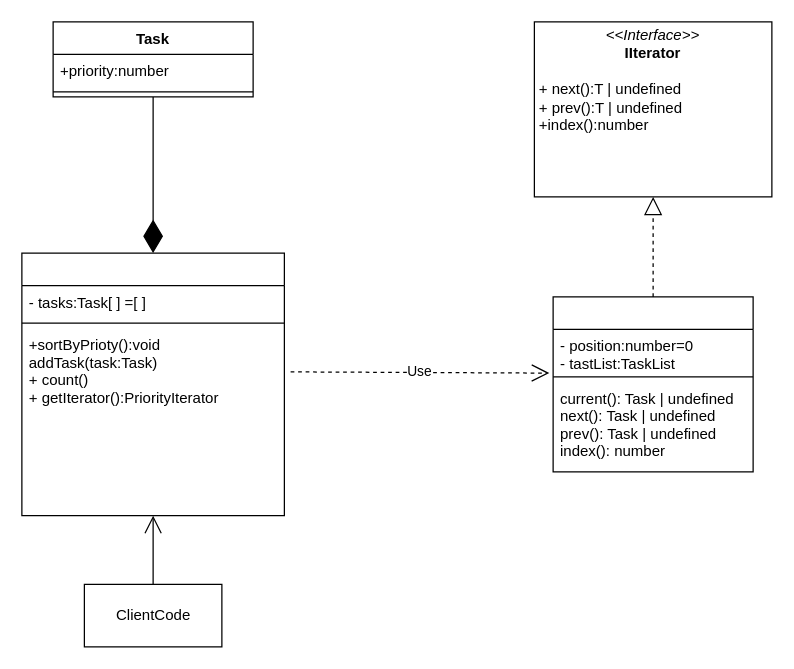
The diagram is 794 pixels wide and 669 high, and some of its shapes have lost their labels. The shapes that lost their labels are listed below. From the top down, each one's box as (x1, y1, x2, y2) in pixels, then its label:
(21, 252, 284, 516): TaskList
(552, 296, 753, 472): PriorityIterator
